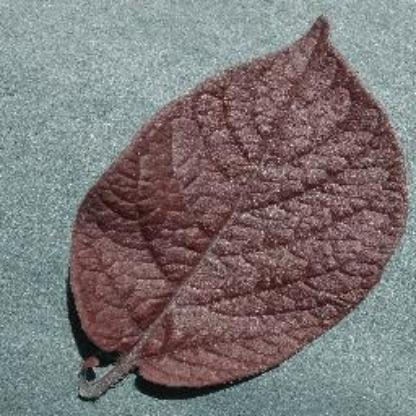Healthy-plant: (67, 13, 409, 406)
